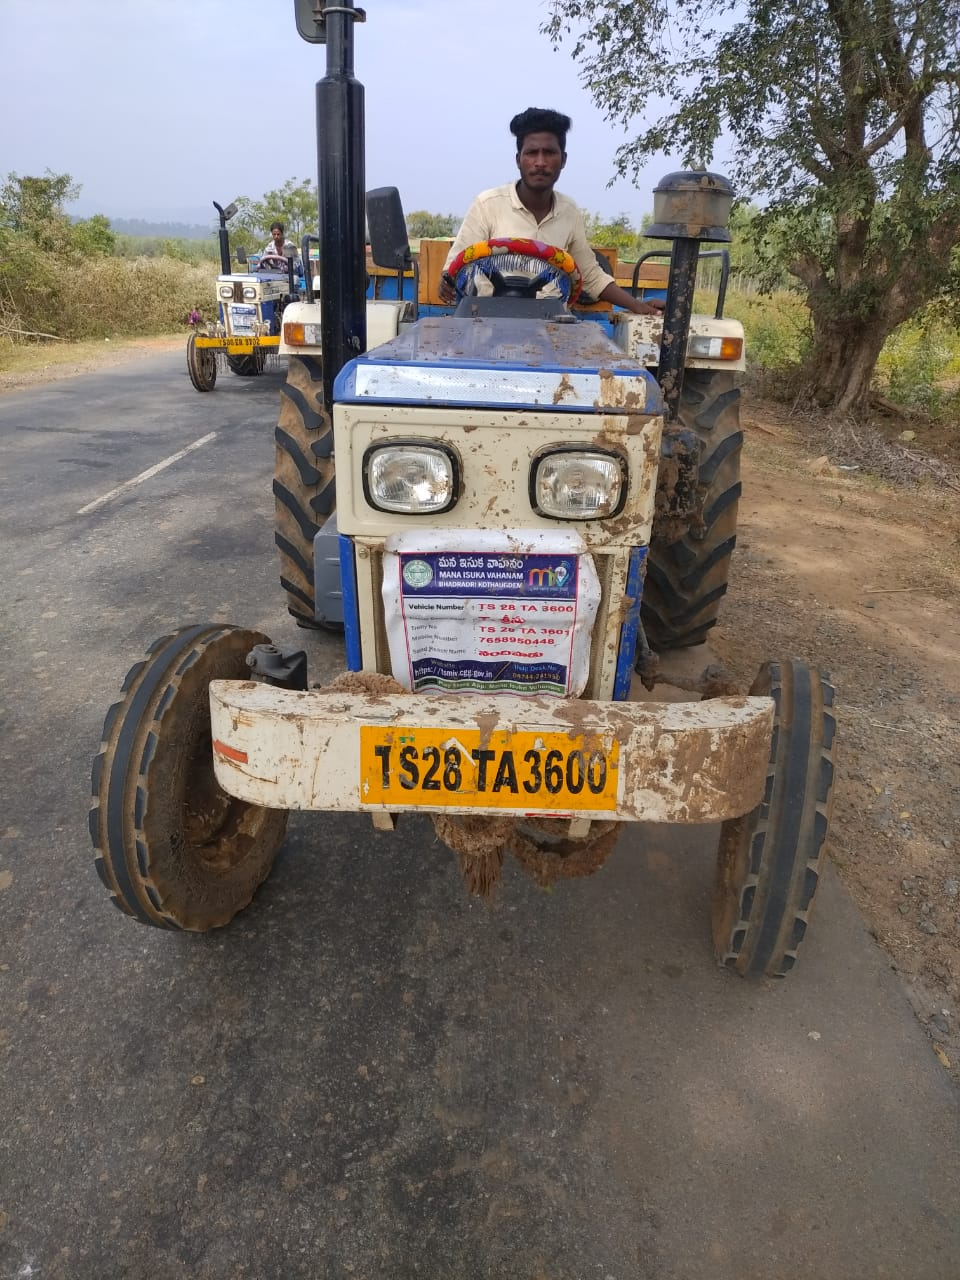num_plate: (351, 708, 626, 827)
